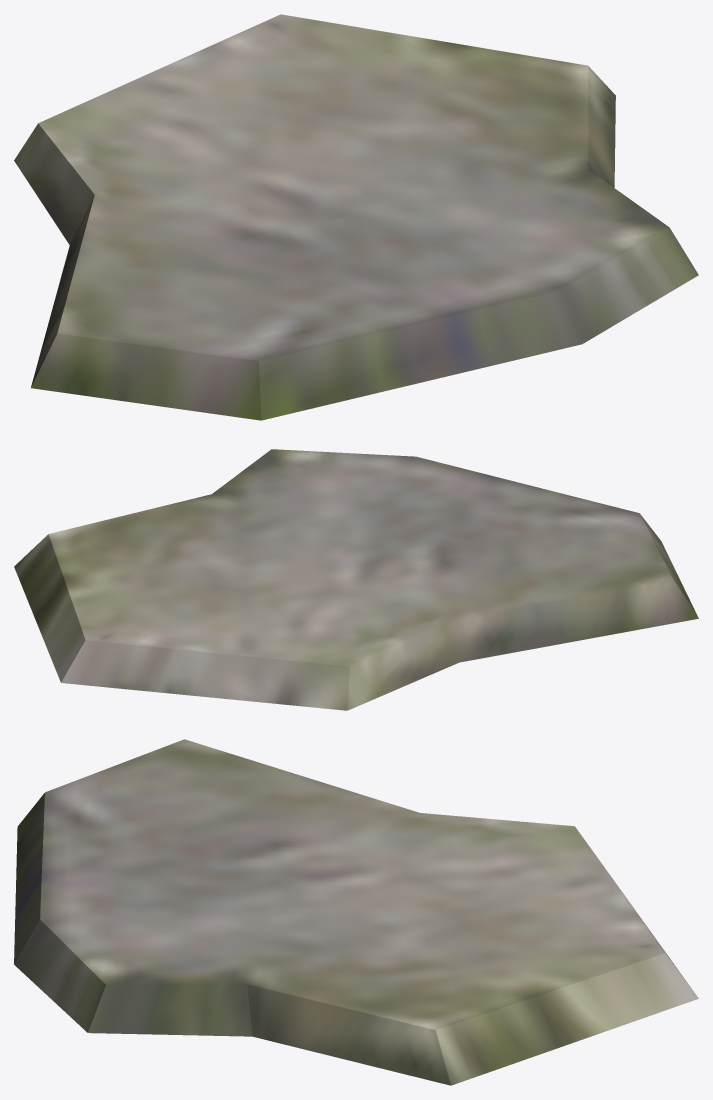
Rendered from 1001_Item_shidimian_2.FBX.
3 renders of one model, top to bottom at view 1: azimuth 30°, elevation 25°; view 2: azimuth 150°, elevation 25°; view 3: azimuth 270°, elevation 25°, orthographic. The views are drawn at different scales.
Visible parts, largest first — view 1: 1001_Item_shidimian_2; view 2: 1001_Item_shidimian_2; view 3: 1001_Item_shidimian_2.
Part boxes in pixels (bbox=[...]): 1001_Item_shidimian_2: bbox=[14, 14, 698, 420]; 1001_Item_shidimian_2: bbox=[14, 449, 698, 710]; 1001_Item_shidimian_2: bbox=[14, 739, 698, 1085].
Bounding box in the file's own units: 124 × 112 × 7.21.
